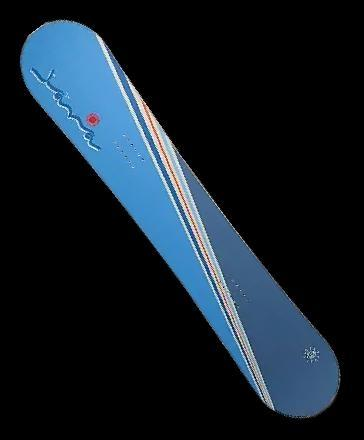Snowboard: (14, 13, 346, 440)
